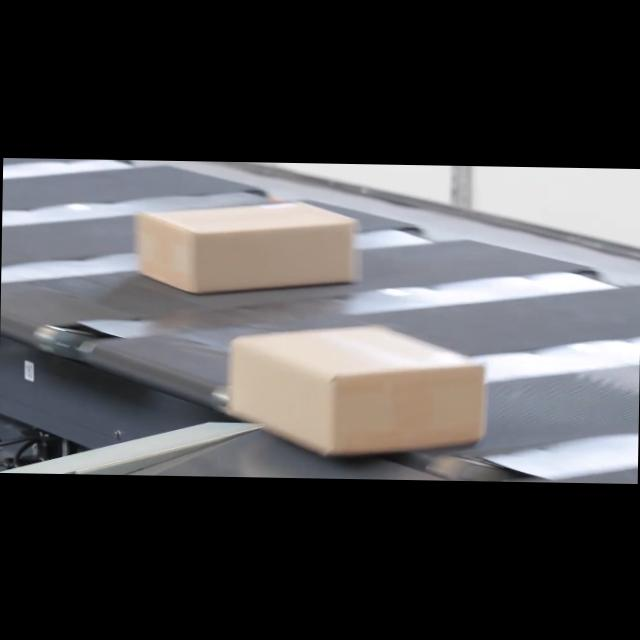box: (220, 318, 486, 461), (136, 198, 358, 291)
